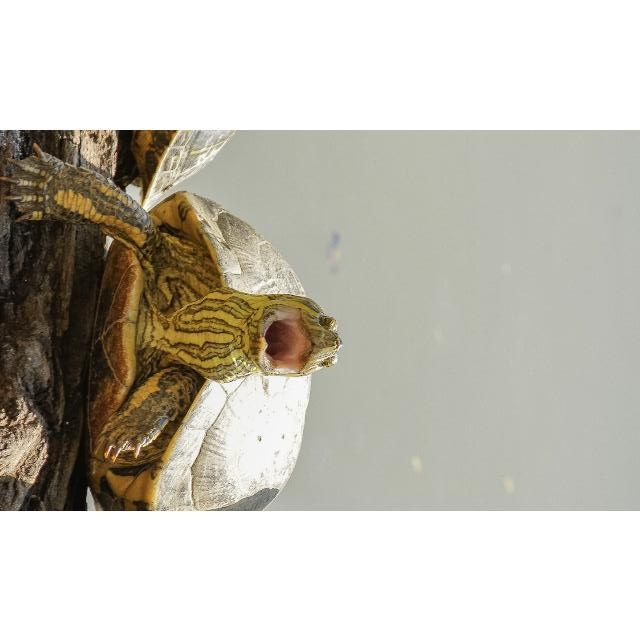turtle: (5, 142, 345, 507)
